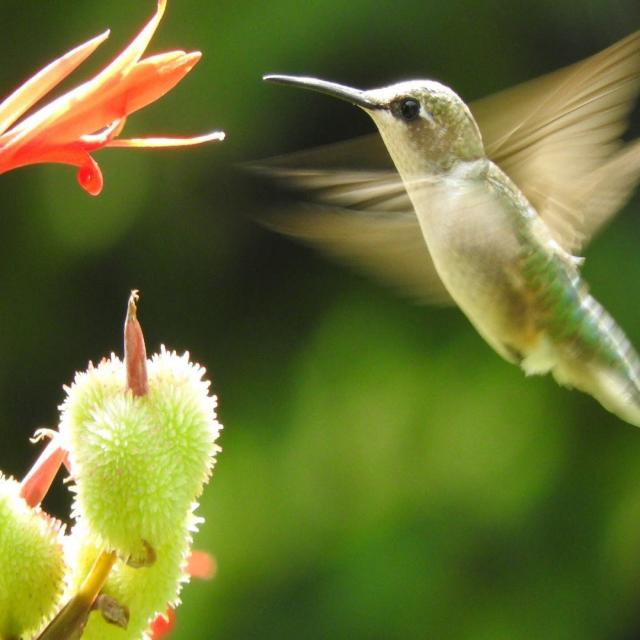Humming Bird: (250, 71, 640, 424)
